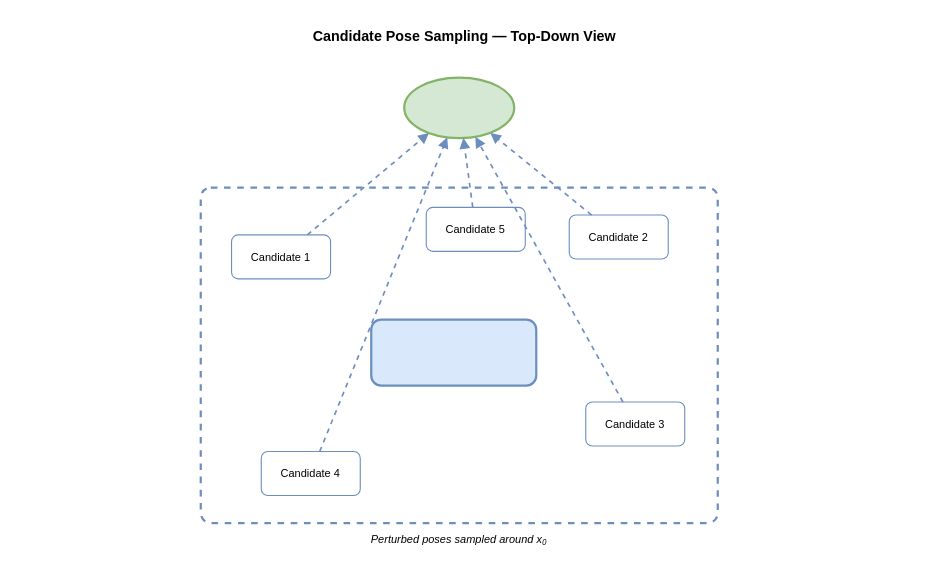
This 928x570 diagram has some shape labels left out. Each missing label, with the centre of its shape:
Initial SLAM Pose (x₀): point 453,352
Vine Trunk: point 459,107
